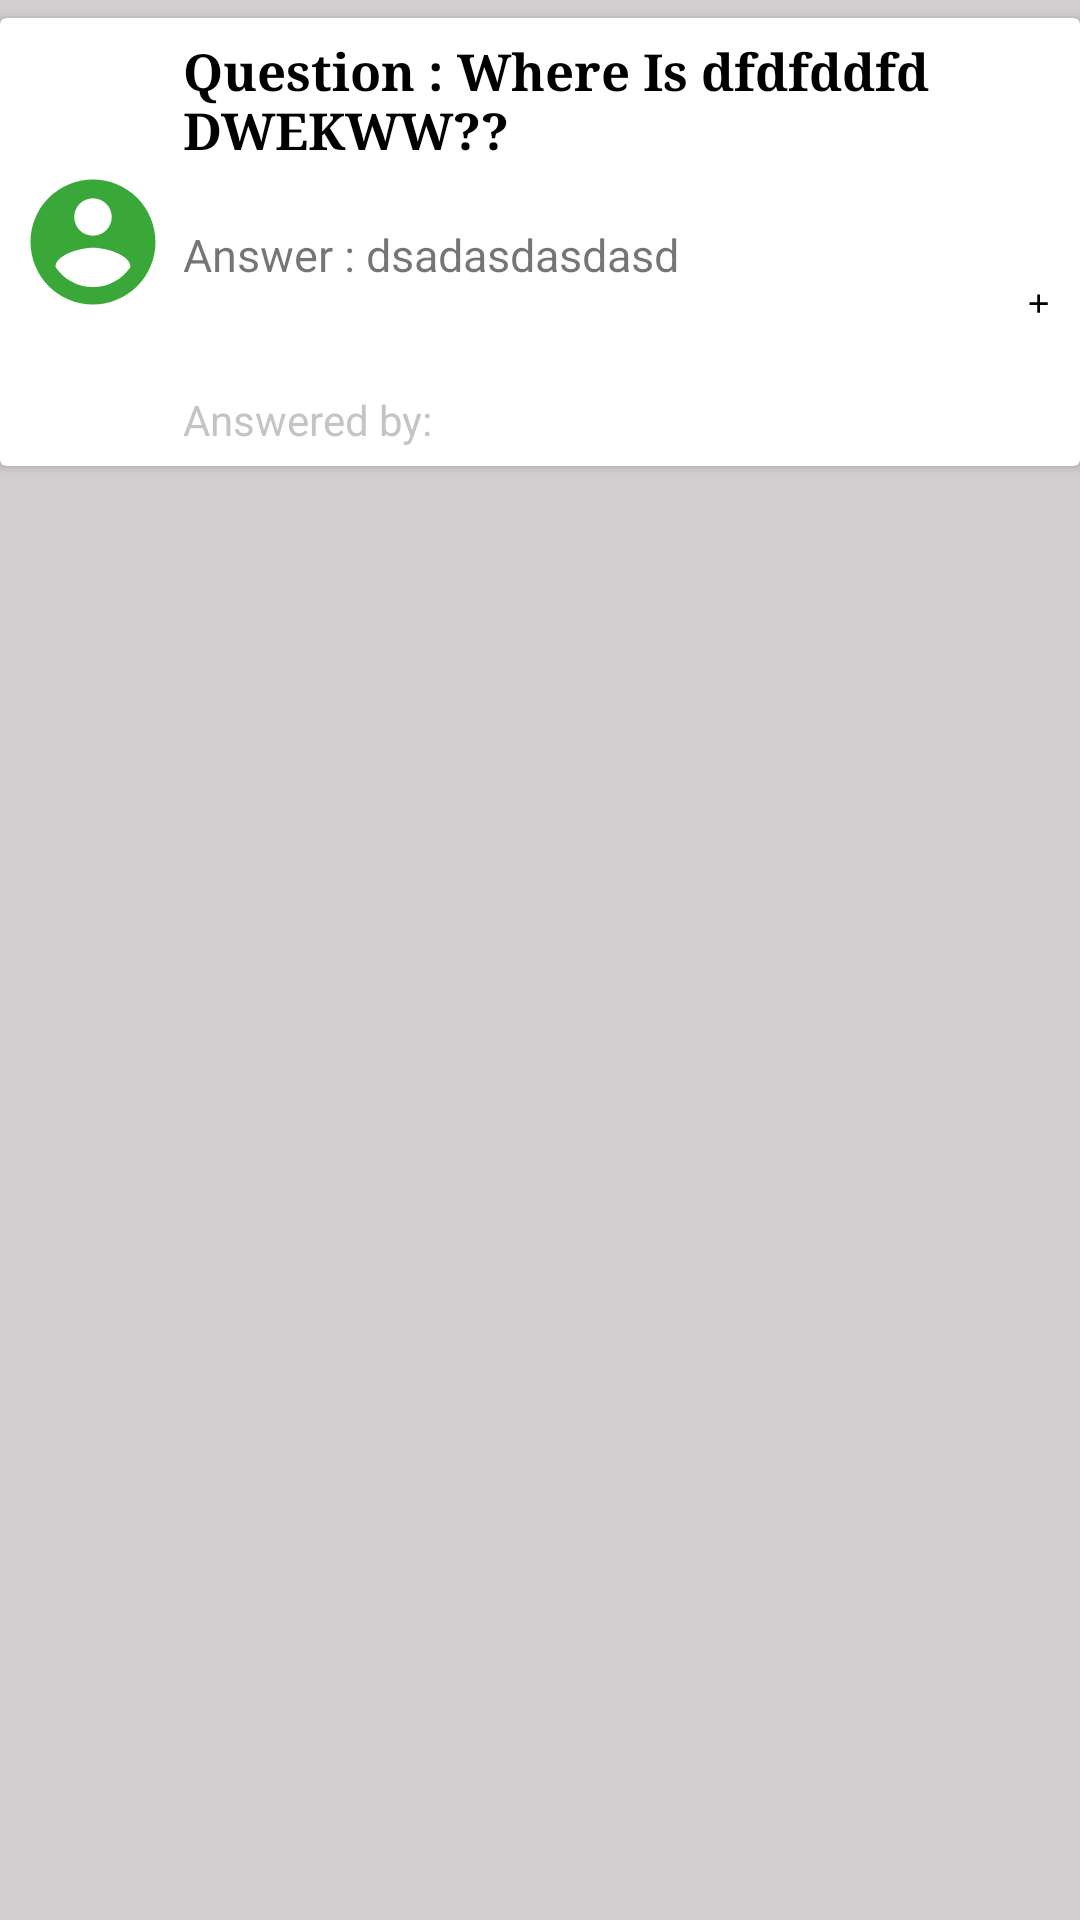

Named icons in this screenshot (1080px×1920px) and their bounding boxes, (x1=x1, y1=y1, x2=x2, y2=y2):
account circle: (x1=30, y1=179, x2=156, y2=305)
